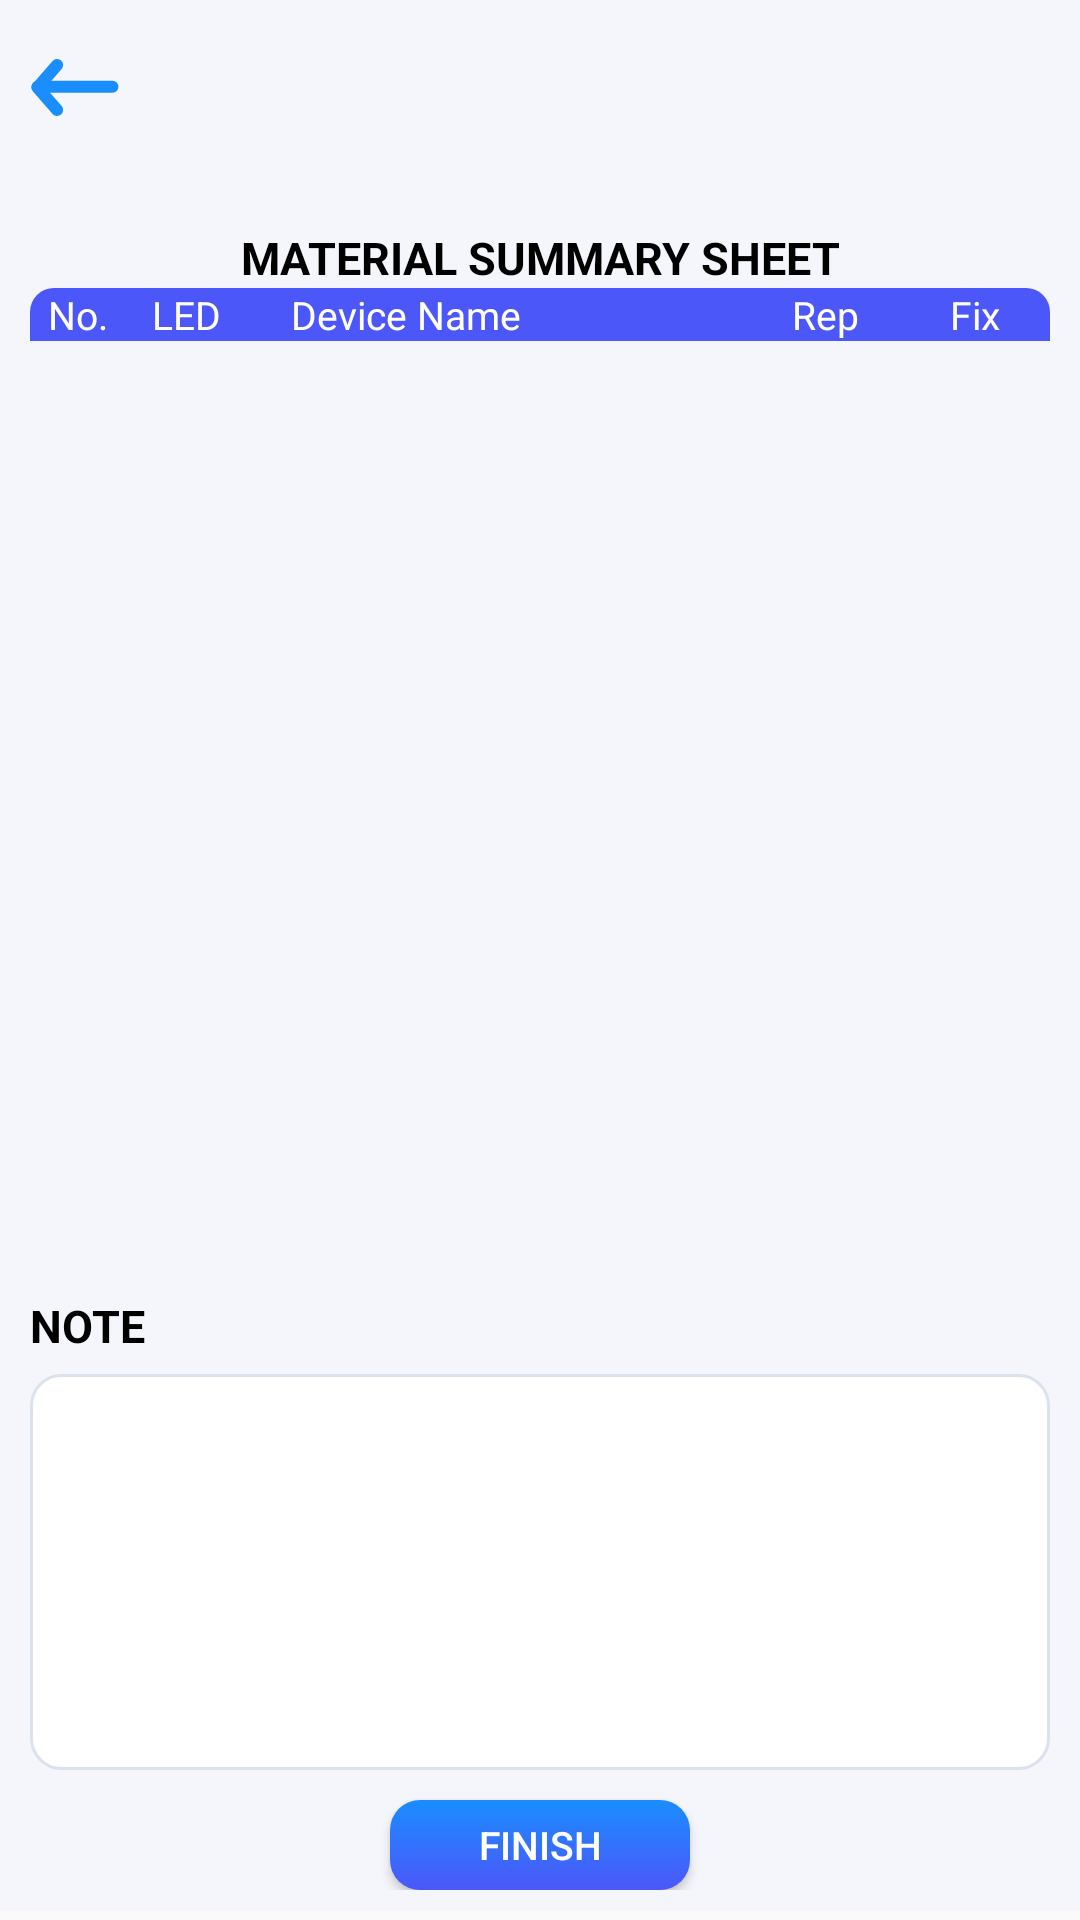

Icons on this 1080px×1920px Android screen, each with the point to tap as point (x, y):
back: point (75, 87)
